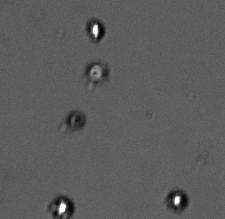Dead Cell: (65, 108, 87, 132)
Living Cell: (164, 187, 191, 213), (48, 194, 76, 217), (84, 18, 109, 43), (83, 59, 108, 83)
